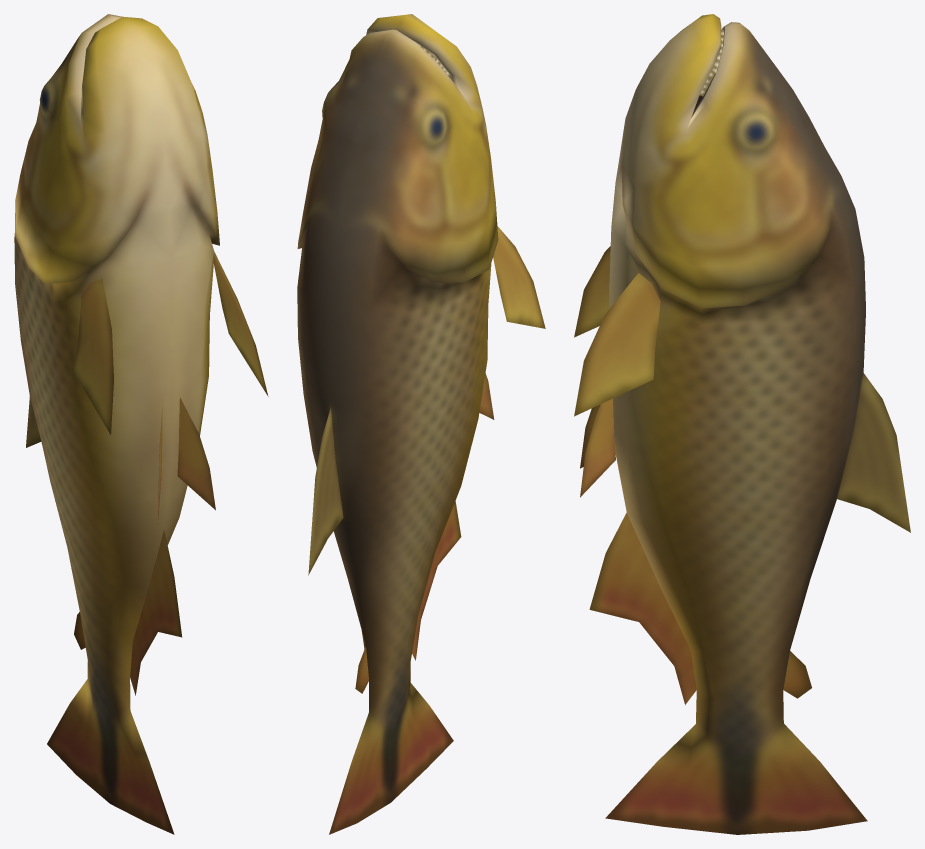
Rendered from dorado.glb.
3 renders of one model, left to right at view 1: azimuth 30°, elevation 25°; view 2: azimuth 150°, elevation 25°; view 3: azimuth 270°, elevation 25°, orthographic. The views are drawn at different scales.
Visible parts, largest first — view 1: FishDorado__mDolado; view 2: FishDorado__mDolado; view 3: FishDorado__mDolado.
Boxes of the visible parts, box(x1,y1,x2,y2) form: FishDorado__mDolado: box(14, 14, 268, 834); FishDorado__mDolado: box(297, 14, 545, 834); FishDorado__mDolado: box(574, 14, 910, 834).
Bounding box in the file's own units: 0.2999 × 1.37 × 0.512.
1 material, 1 textured.
